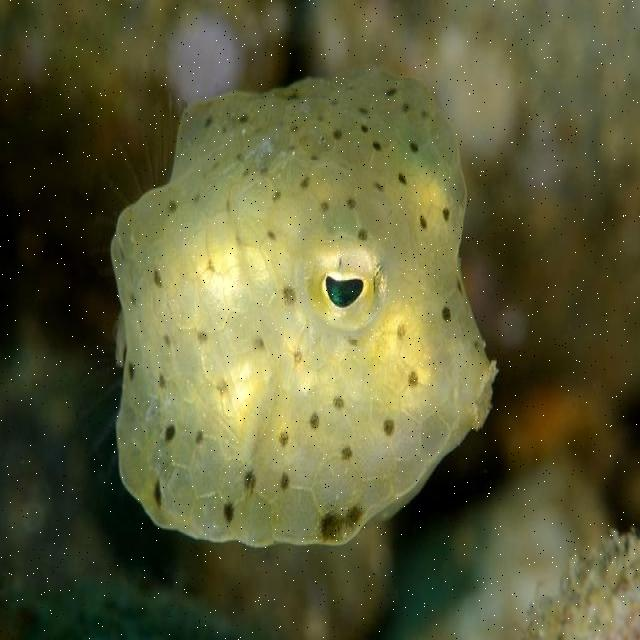fish: (77, 64, 500, 549)
